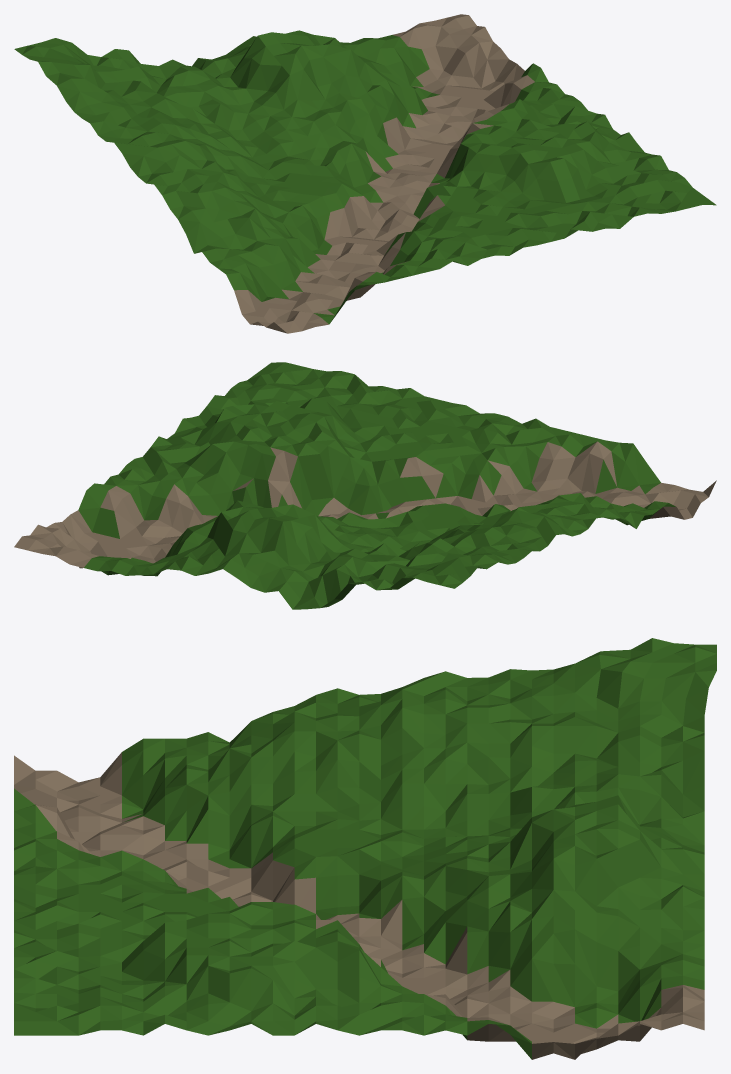
The model's file is _ntitled.dae.
The picture shows the model from 3 angles, top to bottom: view 1: azimuth 30°, elevation 25°; view 2: azimuth 150°, elevation 25°; view 3: azimuth 270°, elevation 25°; orthographic projection. The views are drawn at different scales.
Parts seen in each view (by area): view 1: Plane; view 2: Plane; view 3: Plane.
Part boxes in pixels (x1,y1,x2,y2): Plane: [14, 14, 716, 333]; Plane: [14, 362, 716, 609]; Plane: [14, 638, 716, 1059].
Bounding box in the file's own units: 2.87 × 2.92 × 0.6634.
